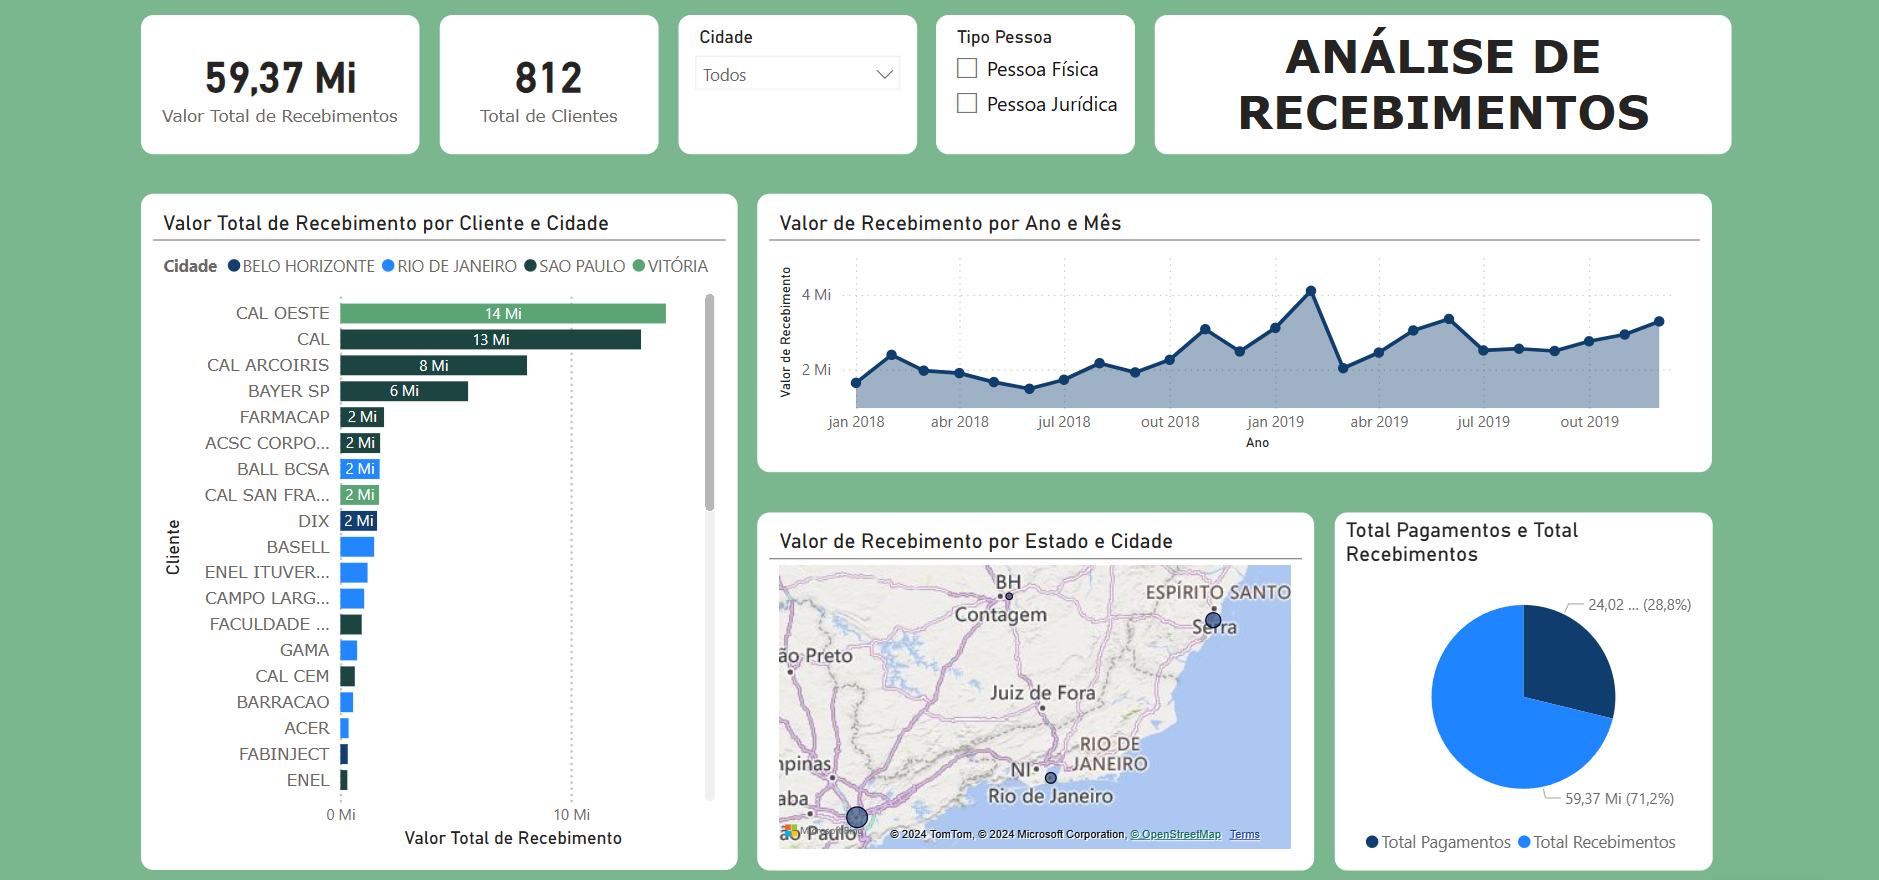

What the dashboard file says about the page in this screenshot:
{"tool":"powerbi","page":{"name":"Clientes","canvas":[1280,720],"ordinal":0},"visuals":[{"type":"card","fields":{"Values":["Sum(Recebimentos.Valor da Movimentação)"]},"box":[0,16,224,112],"z":0},{"type":"card","fields":{"Values":["Count(Cliente.Id Cliente)"]},"box":[240,16,176,112],"z":1000},{"type":"textbox","box":[816,16,464,112],"z":2000},{"type":"map","fields":{"Category":["Cliente.UF","Cliente.Municipio"],"Size":["Sum(Recebimentos.Valor da Movimentação)"]},"box":[496,416,448,288],"z":3000},{"type":"areaChart","fields":{"Y":["Sum(Recebimentos.Valor da Movimentação)"],"Category":["Recebimentos.Data da Movimentação.Variation.Hierarquia de datas.Ano","Recebimentos.Data da Movimentação.Variation.Hierarquia de datas.Mês"]},"box":[496,160,768,224],"z":4000},{"type":"barChart","fields":{"Y":["Sum(Recebimentos.Valor da Movimentação)"],"Category":["Cliente.Razao Social"],"Series":["Cliente.Municipio"]},"box":[0,160,480,544],"z":5000},{"type":"slicer","fields":{"Values":["Cliente.Cidade"]},"box":[432,16,192,112],"z":6000},{"type":"slicer","fields":{"Values":["Cliente.Tipo Pessoa"]},"box":[640,16,160,112],"z":7000},{"type":"pieChart","fields":{"Y":["Pagamentos.TotalPagamentos","Recebimentos.TotalRecebimentos"]},"box":[960,416,304,288],"z":8000},{"type":"actionButton","box":[0,0,100,40],"z":9000}]}

Visuals, with their boxes in screenshot pixels (x1, y1, x2, y2):
card - Sum(Recebimentos.Valor da Movimentação): left=132, top=10, right=412, bottom=150
card - Count(Cliente.Id Cliente): left=432, top=10, right=652, bottom=150
textbox: left=1153, top=10, right=1733, bottom=150
map - Cliente.UF x Cliente.Municipio: left=752, top=511, right=1313, bottom=871
areaChart - Sum(Recebimentos.Valor da Movimentação) x Recebimentos.Data da Movimentação.Variation.Hierarquia de datas.Ano: left=752, top=190, right=1713, bottom=470
barChart - Sum(Recebimentos.Valor da Movimentação) x Cliente.Razao Social: left=132, top=190, right=732, bottom=871
slicer - Cliente.Cidade: left=672, top=10, right=913, bottom=150
slicer - Cliente.Tipo Pessoa: left=933, top=10, right=1133, bottom=150
pieChart - Pagamentos.TotalPagamentos x Recebimentos.TotalRecebimentos: left=1333, top=511, right=1713, bottom=871
actionButton: left=132, top=0, right=257, bottom=40
